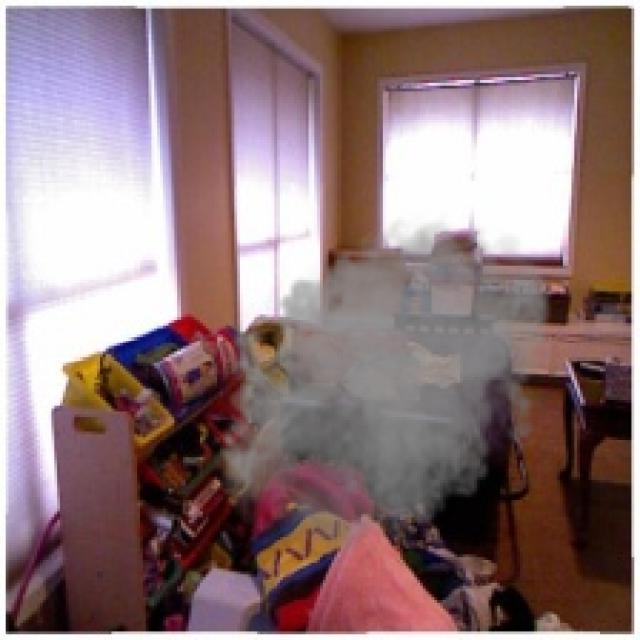smoke: (209, 212, 557, 572)
